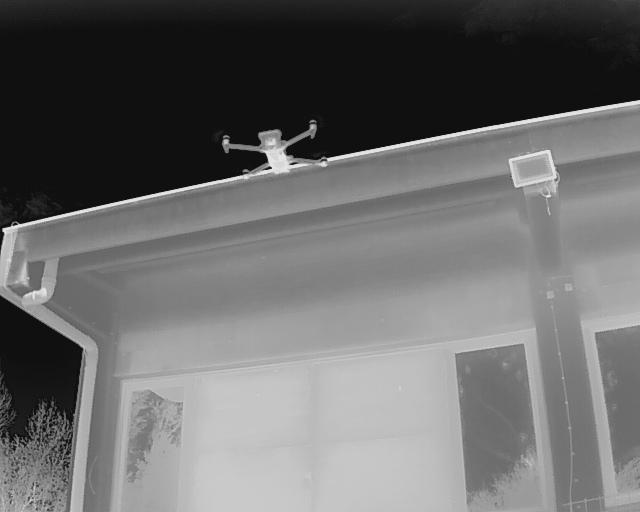drone: (211, 106, 342, 199)
